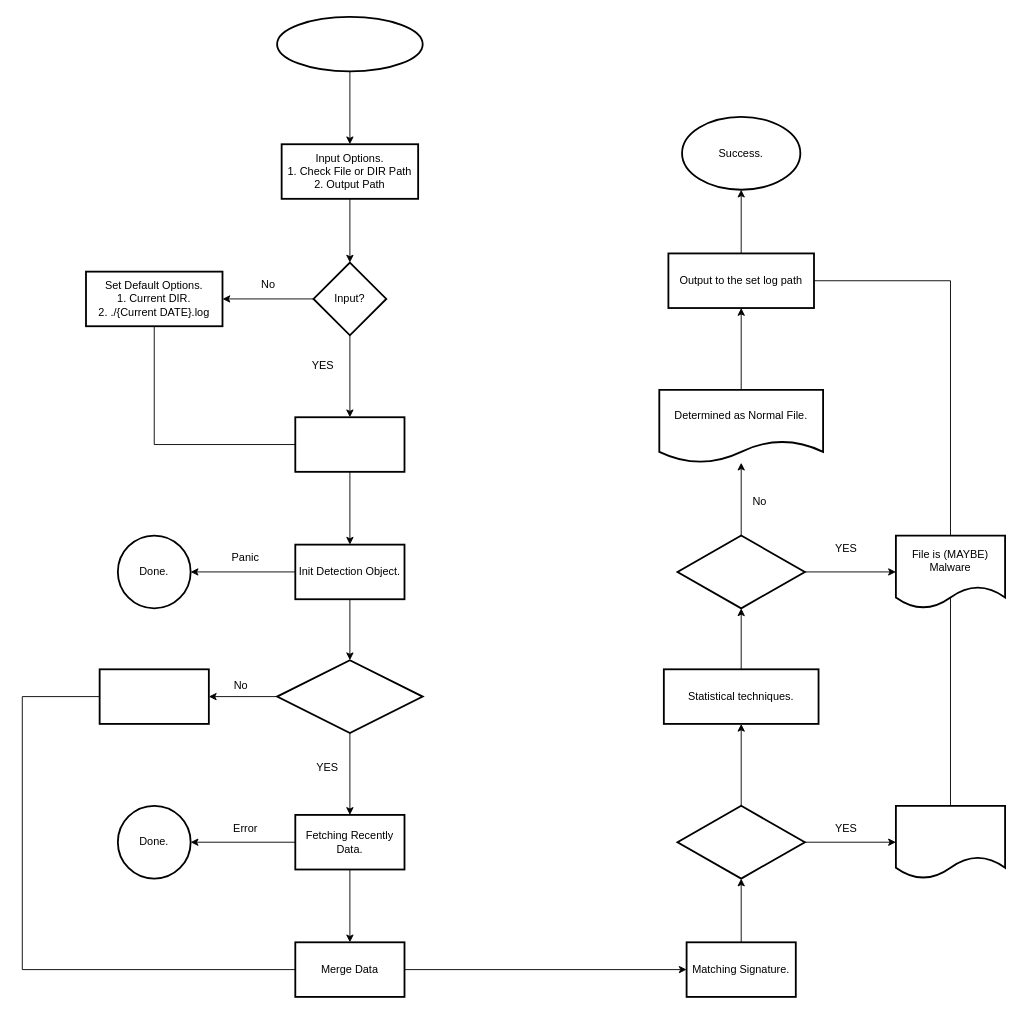
This 1022x1013 diagram has some shape labels left out. Here are the shapes that lost their labels. From the top down, the centre of each, then its label:
At [349,43]: "Start".
At [349,444]: "Set Input Options.".
At [740,571]: "Score >= 50 ?".
At [153,696]: "Set Local Data.".
At [349,696]: "Can I access recent signature data?".
At [740,841]: "Equal Signature?".
At [950,841]: "File is Malware.".
